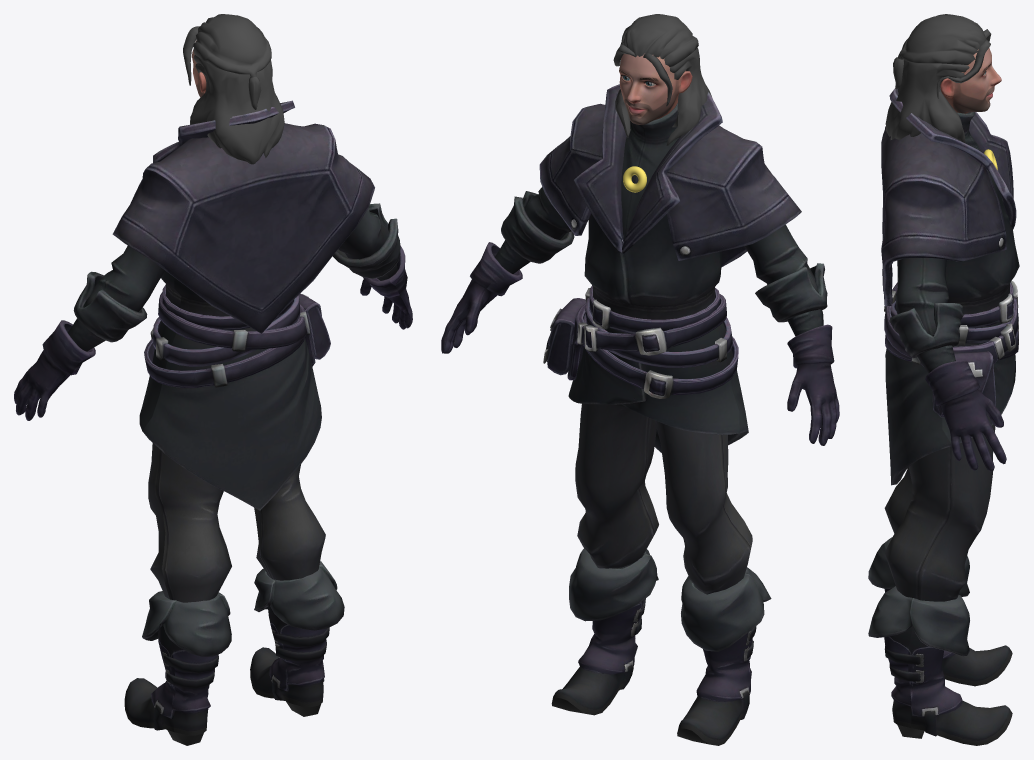
The model's file is man.glb.
The picture shows the model from 3 angles, left to right: view 1: azimuth 30°, elevation 25°; view 2: azimuth 150°, elevation 25°; view 3: azimuth 270°, elevation 25°; orthographic projection.
Parts seen in each view (by area): view 1: Wolf3D_Outfit_Top, Wolf3D_Outfit_Bottom, Wolf3D_Outfit_Footwear, Wolf3D_Hair; view 2: Wolf3D_Outfit_Top, Wolf3D_Outfit_Bottom, Wolf3D_Outfit_Footwear, Wolf3D_Hair, Wolf3D_Head; view 3: Wolf3D_Outfit_Top, Wolf3D_Outfit_Bottom, Wolf3D_Outfit_Footwear, Wolf3D_Hair, Wolf3D_Head.
Part boxes in pixels (x1,y1,x2,y2): Wolf3D_Outfit_Top: (14, 100, 412, 510); Wolf3D_Outfit_Bottom: (144, 284, 330, 602); Wolf3D_Outfit_Footwear: (124, 561, 344, 745); Wolf3D_Hair: (183, 14, 284, 164); Wolf3D_Outfit_Top: (441, 84, 839, 452); Wolf3D_Outfit_Bottom: (543, 285, 752, 594); Wolf3D_Outfit_Footwear: (551, 548, 771, 745); Wolf3D_Hair: (613, 14, 711, 145); Wolf3D_Head: (619, 53, 692, 124); Wolf3D_Outfit_Top: (881, 88, 1019, 485); Wolf3D_Outfit_Bottom: (884, 281, 1018, 601); Wolf3D_Outfit_Footwear: (868, 537, 1012, 745); Wolf3D_Hair: (885, 14, 991, 143); Wolf3D_Head: (940, 48, 1001, 113).
Size of the model in its own units: 1.06 by 1.83 by 0.3658.
Materials: 8 (7 with a texture image).
